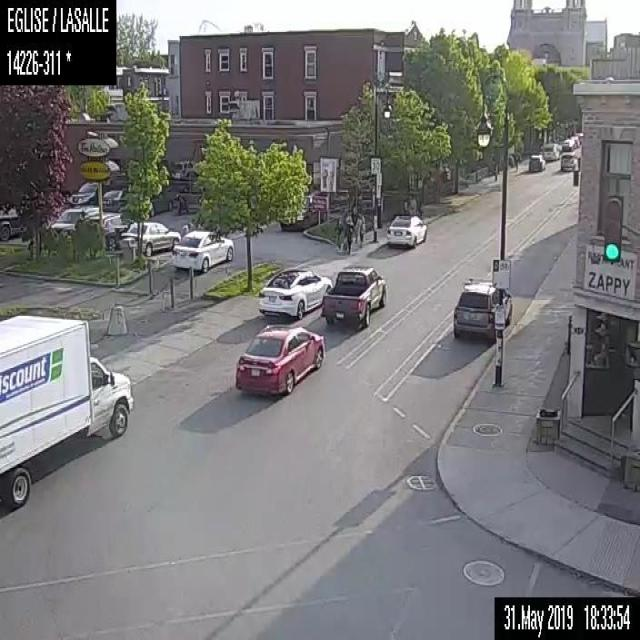pedestrian: (343, 216, 355, 253), (355, 210, 364, 248), (334, 215, 343, 252)
vehicle: (0, 312, 135, 507), (233, 321, 324, 395), (319, 264, 386, 329), (450, 277, 514, 343), (256, 266, 332, 319), (170, 229, 233, 271), (120, 218, 179, 254), (84, 210, 134, 251), (48, 206, 99, 239), (279, 194, 325, 228), (384, 212, 426, 249), (67, 180, 98, 207), (0, 208, 21, 240), (148, 190, 174, 215), (100, 189, 127, 210), (559, 151, 579, 170), (541, 142, 561, 159), (527, 151, 542, 171), (560, 136, 574, 151)
